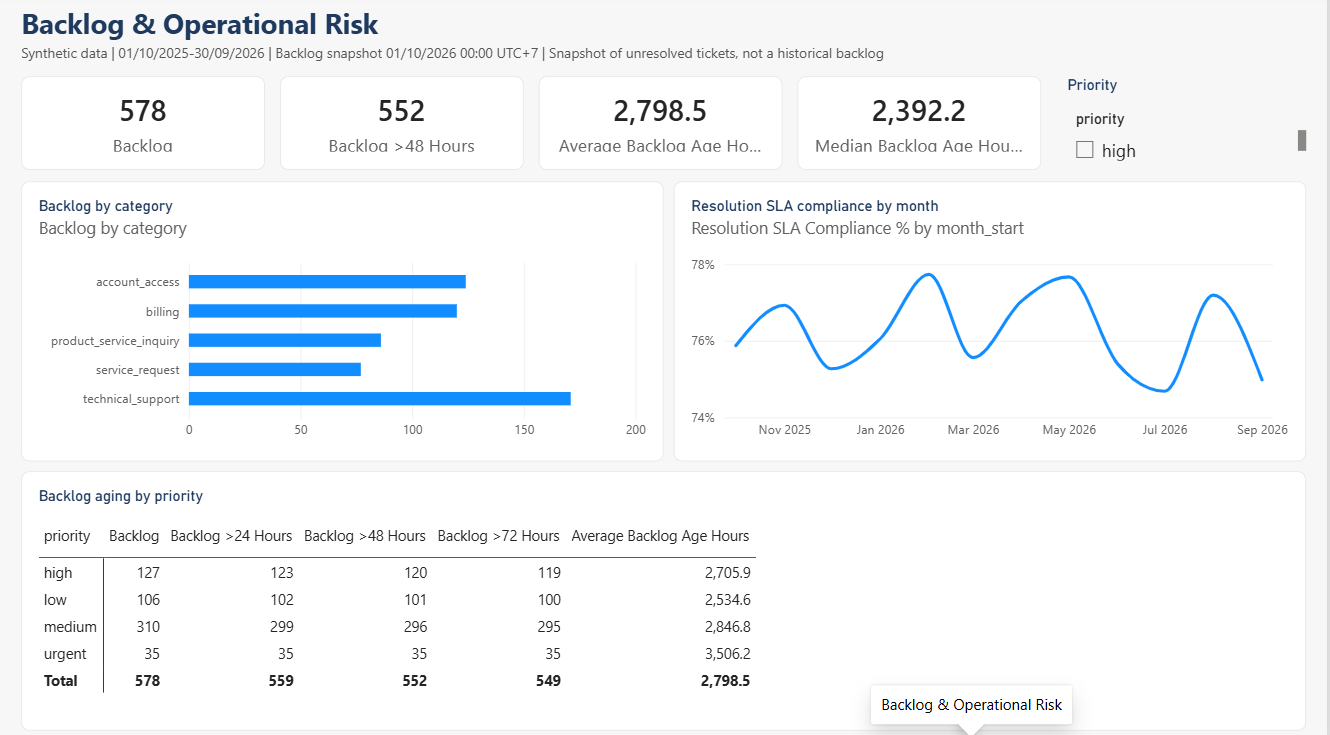

This screenshot's page, from the dashboard's own definition file:
{"tool":"powerbi","page":{"name":"Backlog & Operational Risk","canvas":[1280,720],"ordinal":4},"visuals":[{"type":"textbox","box":[20,8,900,40],"z":38},{"type":"textbox","box":[20,46,1240,24],"z":39},{"type":"card","fields":{"Values":["fact_tickets.Backlog"]},"box":[20,78,235,90],"z":40},{"type":"card","fields":{"Values":["fact_tickets.Backlog >48 Hours"]},"box":[270,78,235,90],"z":41},{"type":"card","fields":{"Values":["fact_tickets.Average Backlog Age Hours"]},"box":[520,78,235,90],"z":42},{"type":"card","fields":{"Values":["fact_tickets.Median Backlog Age Hours"]},"box":[770,78,235,90],"z":43},{"type":"slicer","title":"Priority","fields":{"Values":["fact_tickets.priority"]},"box":[1030,78,230,90],"z":44},{"type":"clusteredBarChart","title":"Backlog by category","fields":{"Category":["dim_categories.category"],"Y":["fact_tickets.Backlog"]},"box":[20,180,620,270],"z":45},{"type":"lineChart","title":"Resolution SLA compliance by month","fields":{"Category":["dim_date.month_start"],"Y":["fact_tickets.Resolution SLA Compliance %"]},"box":[650,180,610,270],"z":46},{"type":"pivotTable","title":"Backlog aging by priority","fields":{"Rows":["fact_tickets.priority"],"Values":["fact_tickets.Backlog","fact_tickets.Backlog >24 Hours","fact_tickets.Backlog >48 Hours","fact_tickets.Backlog >72 Hours","fact_tickets.Average Backlog Age Hours"]},"box":[20,460,1240,250],"z":47}]}

Visuals, with their boxes in screenshot pixels (x1, y1, x2, y2), scaled from the page's 1280x720 canvas onto the 1330x735 screenshot:
textbox: (21,8,956,49)
textbox: (21,47,1309,71)
card - fact_tickets.Backlog: (21,80,265,172)
card - fact_tickets.Backlog >48 Hours: (281,80,525,172)
card - fact_tickets.Average Backlog Age Hours: (540,80,784,172)
card - fact_tickets.Median Backlog Age Hours: (800,80,1044,172)
"Priority" slicer: (1070,80,1309,172)
"Backlog by category" clusteredBarChart: (21,184,665,459)
"Resolution SLA compliance by month" lineChart: (675,184,1309,459)
"Backlog aging by priority" pivotTable: (21,470,1309,725)
